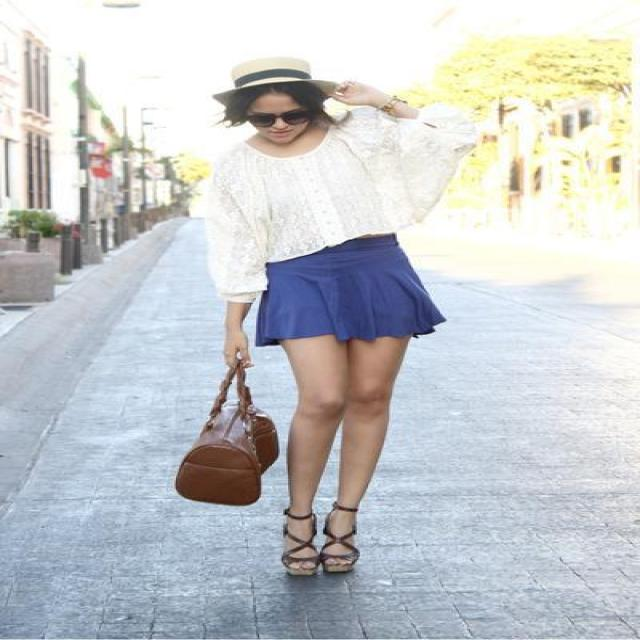bag: (174, 371, 277, 505)
hat: (230, 56, 348, 111)
shirt: (184, 116, 466, 291)
skirt: (256, 232, 445, 344)
